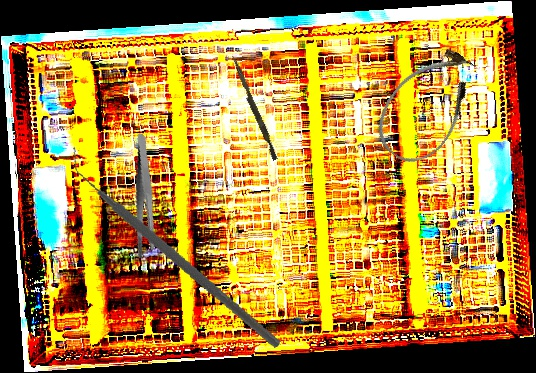Cannula: (363, 36, 493, 175)
Chopper: (47, 144, 306, 349)
Dressing Forceps: (110, 133, 179, 261)
Pusher: (227, 55, 281, 161)
